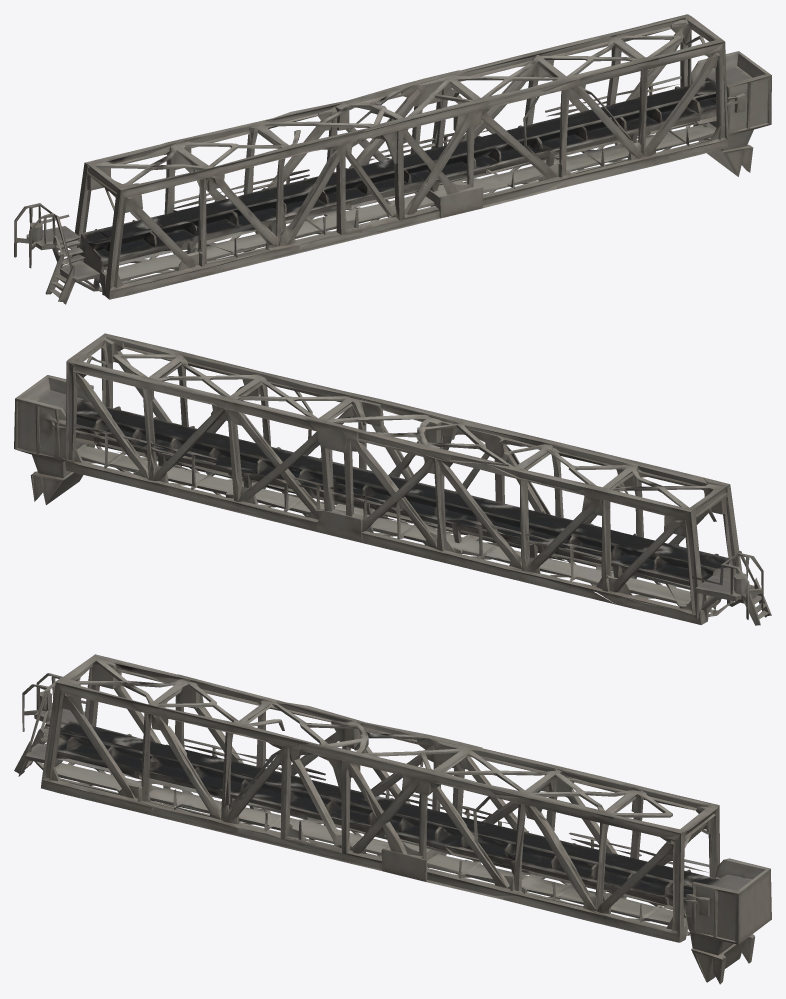
The model's file is conveyor_bridge_truss__sprite.glb.
3 renders of one model, top to bottom at view 1: azimuth 30°, elevation 25°; view 2: azimuth 150°, elevation 25°; view 3: azimuth 330°, elevation 25°, orthographic. The views are drawn at different scales.
Visible parts, largest first — view 1: main; view 2: main; view 3: main.
Boxes of the visible parts, left/top/right/bottom form: main: left=14, top=14, right=771, bottom=304; main: left=14, top=333, right=771, bottom=625; main: left=14, top=654, right=771, bottom=984.
Bounding box in the file's own units: 7.99 × 1.55 × 0.8945.
1 material, 1 textured.
